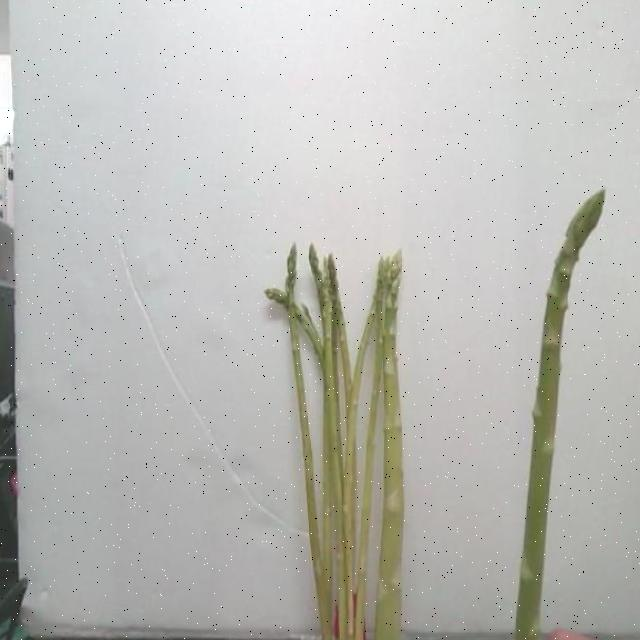aspargus: (513, 191, 604, 640)
